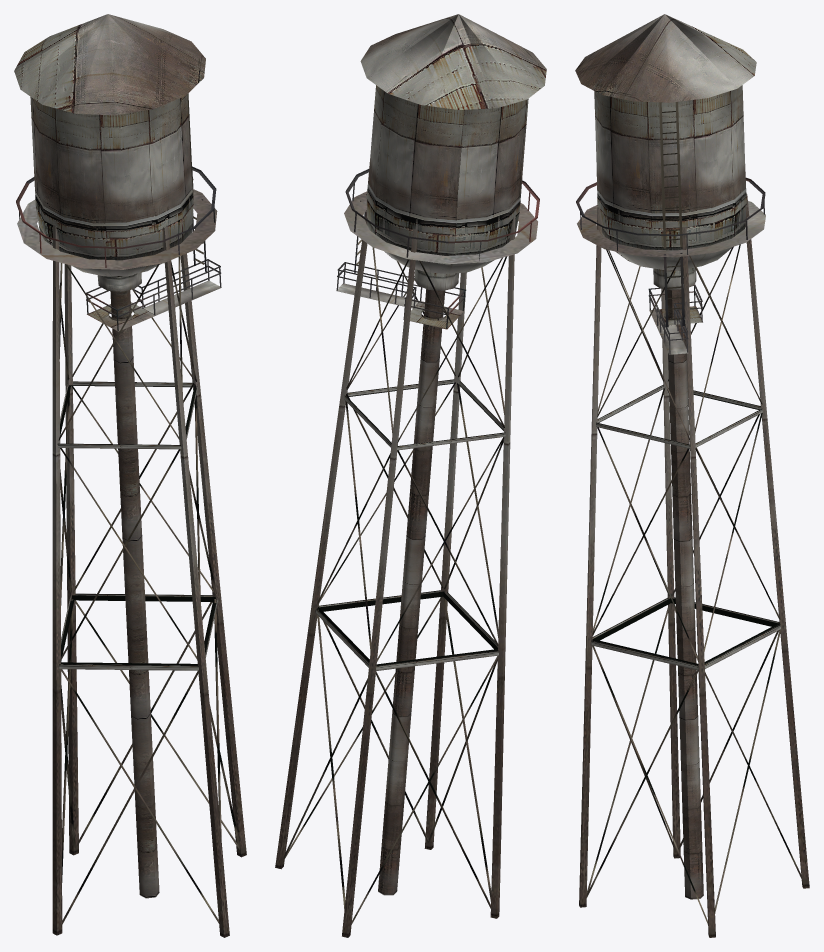
The model's file is watertower.obj.
3 views of the same model, side by side, from view 1: azimuth 30°, elevation 25°; view 2: azimuth 150°, elevation 25°; view 3: azimuth 270°, elevation 25° (orthographic). The views are drawn at different scales.
Visible parts, largest first — view 1: watertower_models/props_buildings/watertower_001a_reference; view 2: watertower_models/props_buildings/watertower_001a_reference; view 3: watertower_models/props_buildings/watertower_001a_reference.
Boxes of the visible parts, left/top/right/bottom form: watertower_models/props_buildings/watertower_001a_reference: left=14, top=14, right=246, bottom=937; watertower_models/props_buildings/watertower_001a_reference: left=275, top=14, right=546, bottom=937; watertower_models/props_buildings/watertower_001a_reference: left=575, top=14, right=809, bottom=937.
Bounding box in the file's own units: 6.49 × 23.46 × 5.78.
1 material, 1 textured.
